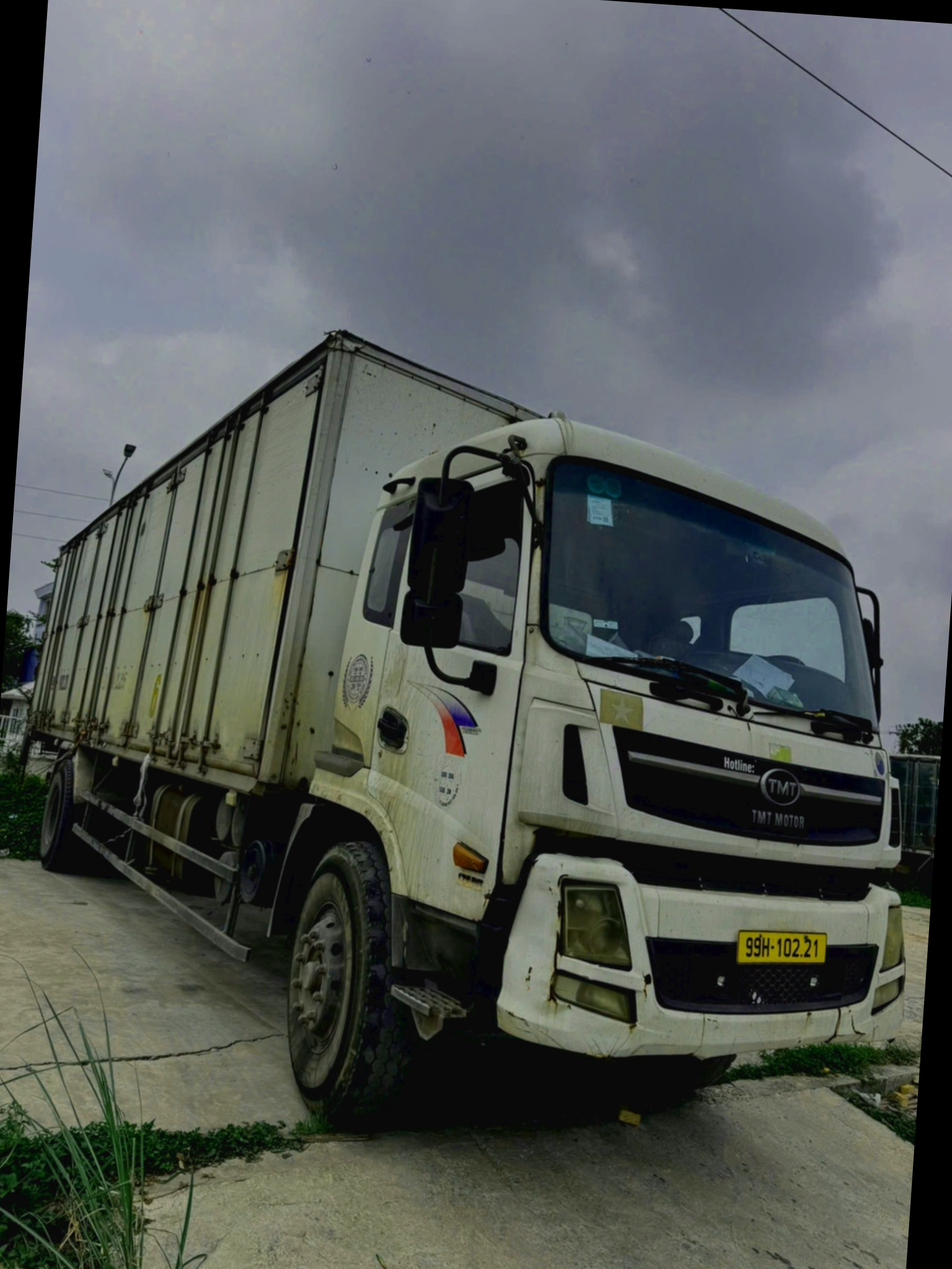Bien-so: (760, 882, 851, 920)
